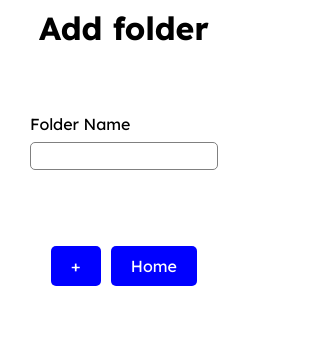
Test: AddFolder › should display server error message on API failure
The image size is (320, 355).
Type "Bad Folder" into the field labelled "Folder Name" at (124, 156), box [30, 142, 218, 170]
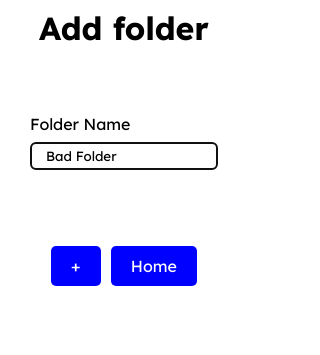
Click the button "+" at (76, 266), box [51, 246, 101, 286]
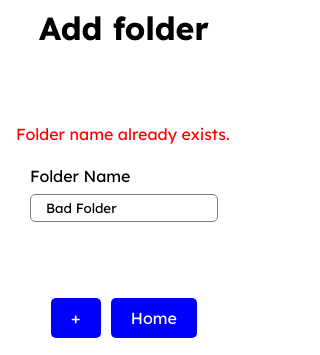
Expected: the button "+" is shown, [51, 298, 101, 338]
Now the text "Folder name already exists." is shown, box [16, 124, 232, 144]
